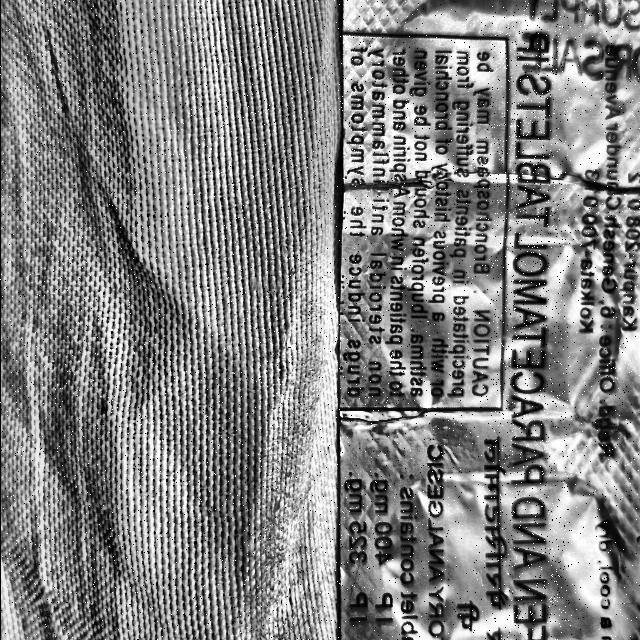IBUPROFEN AND PARACETAMOL TABLETS: (490, 9, 568, 640)
